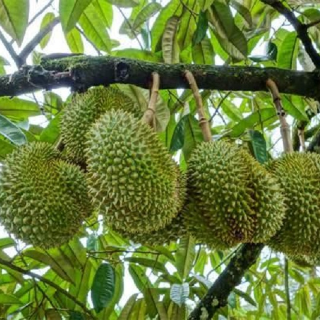sau_rieng: (82, 104, 190, 240), (188, 133, 289, 248), (4, 142, 89, 252)
